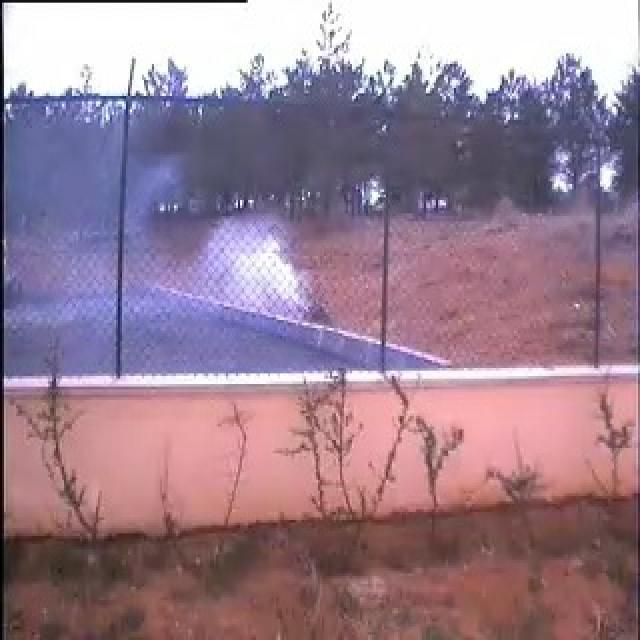smoke: (118, 170, 320, 369)
